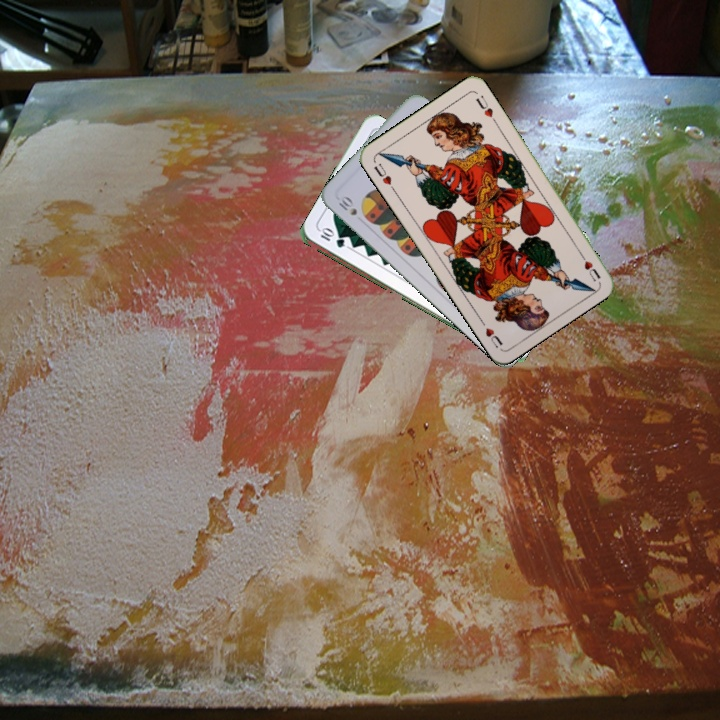G10: (316, 226, 347, 250)
HU: (575, 247, 603, 284), (370, 159, 398, 194)
S10: (334, 192, 360, 218)
